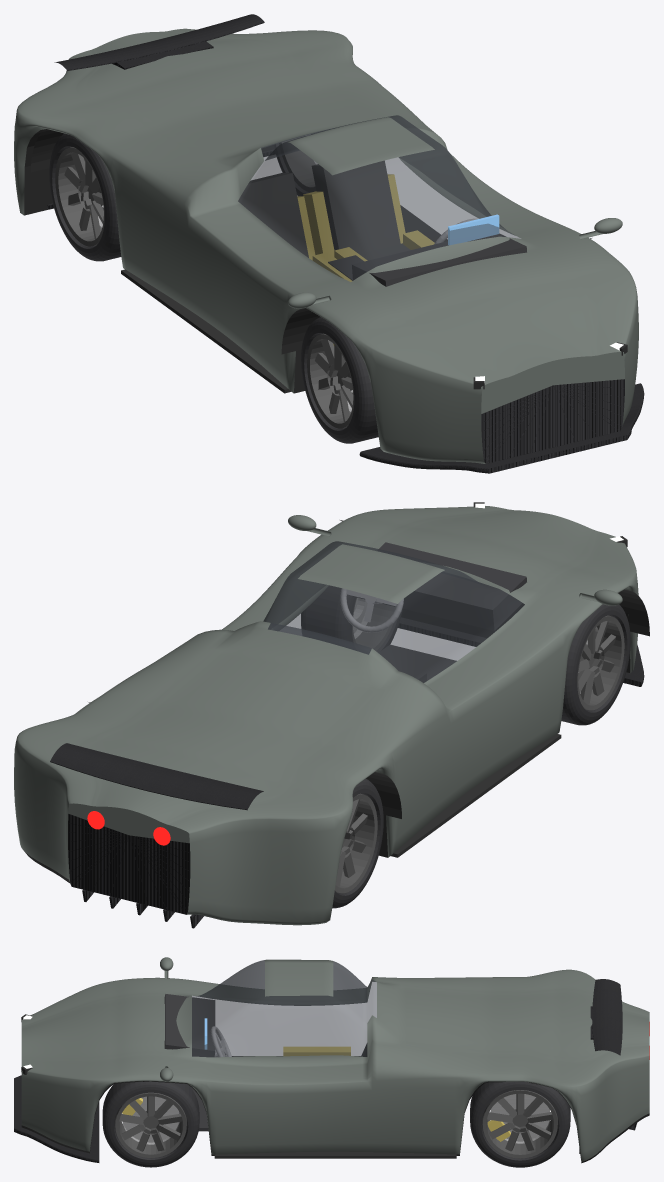
The model's file is lotus-evija.glb.
3 renders of one model, top to bottom at view 1: azimuth 30°, elevation 25°; view 2: azimuth 150°, elevation 25°; view 3: azimuth 270°, elevation 25°, orthographic. The views are drawn at different scales.
Parts seen in each view (by area): view 1: Body_PrimaryPaint, Glass_Windows, Carbon_Exterior, Interior_Seats, WheelWells, Tire_FR, Rim_RR, Rim_FR, Interior_SeatBolsters, Tire_RR, Interior_Dashboard, Underbody (+2 smaller); view 2: Body_PrimaryPaint, Glass_Windows, Carbon_Exterior, Interior_Dashboard, WheelWells, Rim_FR, Tire_FR, Rim_RR, Tire_FL, Underbody, Tire_RR, Interior_Tub (+2 smaller); view 3: Body_PrimaryPaint, Glass_Windows, Carbon_Exterior, Tire_FL, Rim_RL, Tire_RL, Rim_FL, Interior_Dashboard, WheelWells, Underbody, BrakeDisc_RL, Interior_SeatBolsters (+2 smaller).
Part boxes in pixels (x1,y1,x2,y2): Body_PrimaryPaint: [14, 28, 638, 463]; Glass_Windows: [238, 115, 520, 281]; Carbon_Exterior: [47, 14, 644, 473]; Interior_Seats: [238, 160, 410, 260]; WheelWells: [31, 129, 591, 393]; Tire_FR: [301, 317, 378, 443]; Rim_RR: [55, 147, 104, 246]; Rim_FR: [307, 333, 354, 428]; Interior_SeatBolsters: [297, 174, 434, 281]; Tire_RR: [49, 133, 121, 261]; Interior_Dashboard: [352, 233, 526, 286]; Underbody: [24, 129, 305, 393]; Body_PrimaryPaint: [14, 506, 638, 925]; Glass_Windows: [263, 541, 524, 682]; Carbon_Exterior: [50, 617, 644, 928]; Interior_Dashboard: [353, 542, 526, 630]; WheelWells: [88, 520, 649, 857]; Rim_FR: [577, 615, 624, 710]; Tire_FR: [561, 604, 630, 725]; Rim_RR: [335, 793, 377, 893]; Tire_FL: [301, 585, 402, 652]; Underbody: [24, 603, 630, 917]; Tire_RR: [332, 779, 383, 908]; Interior_Tub: [378, 644, 456, 680]; Body_PrimaryPaint: [21, 957, 649, 1161]; Glass_Windows: [192, 960, 376, 1057]; Carbon_Exterior: [14, 979, 636, 1162]; Tire_FL: [102, 1081, 199, 1167]; Rim_RL: [482, 1090, 557, 1158]; Tire_RL: [470, 1081, 570, 1167]; Rim_FL: [115, 1092, 186, 1157]; Interior_Dashboard: [164, 994, 215, 1057]; WheelWells: [214, 1056, 456, 1158]; Underbody: [21, 1081, 649, 1163]; BrakeDisc_RL: [490, 1094, 549, 1143]; Interior_SeatBolsters: [283, 1046, 350, 1056].
Size of the model in its own units: 2.02 by 1.12 by 4.52.
Materials: 15 (2 with a texture image).
